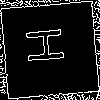H: (25, 24, 74, 65)
